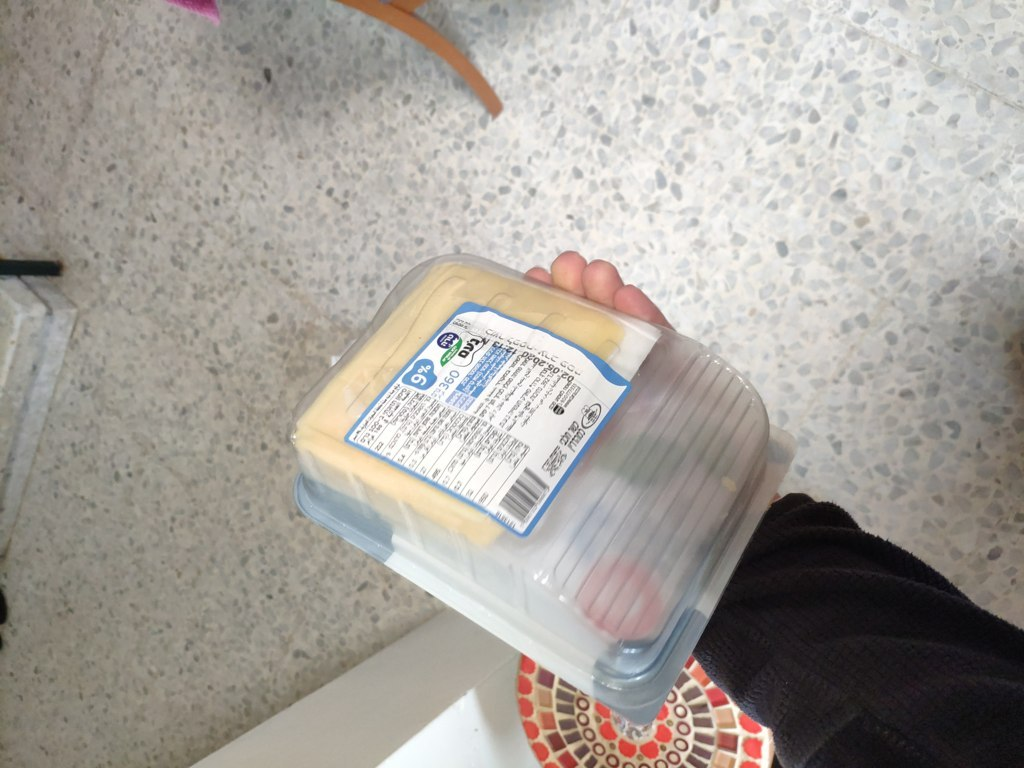Cheese: (259, 249, 781, 687)
